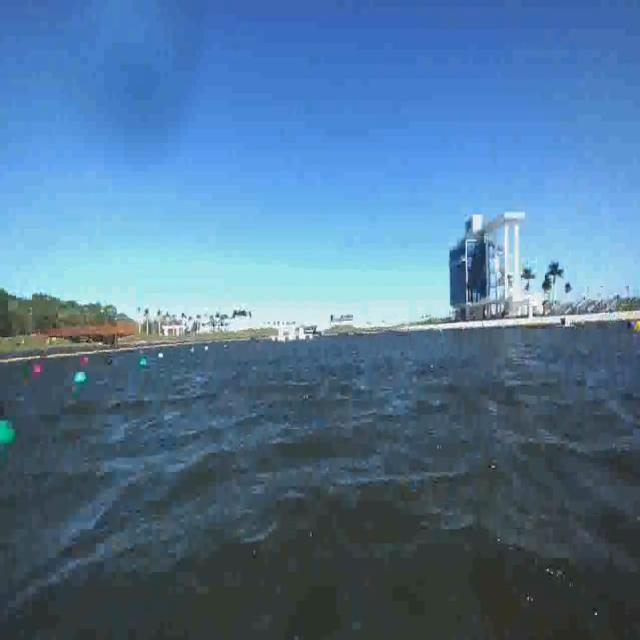green-buoy: (0, 420, 15, 446), (75, 371, 88, 384), (139, 356, 148, 367)
red-buoy: (80, 357, 88, 364)
yellow-buoy: (634, 319, 640, 332)
